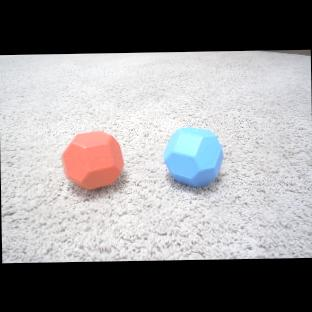V5_BLUE: (163, 123, 225, 188)
V5_RED: (63, 129, 123, 190)
